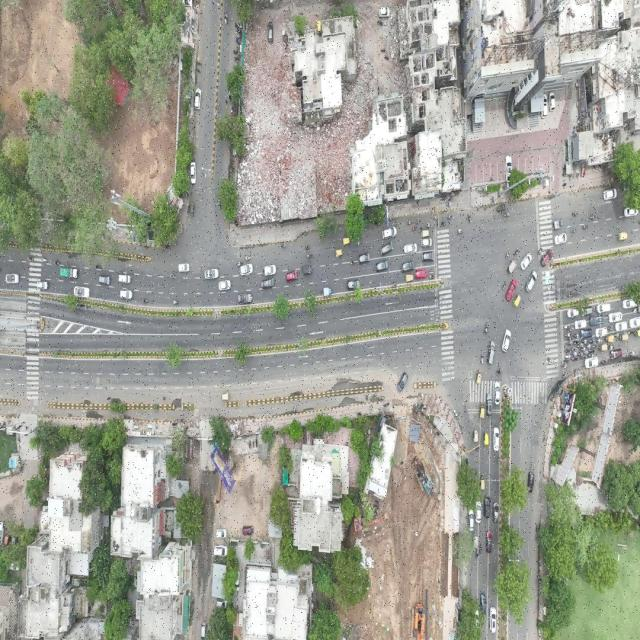3W: (301, 263, 314, 278), (219, 391, 231, 403), (322, 285, 334, 297), (512, 294, 521, 309), (508, 260, 517, 275), (190, 200, 197, 219), (335, 248, 345, 260), (617, 232, 629, 242), (472, 428, 479, 444), (343, 235, 352, 247), (483, 430, 489, 448), (479, 404, 485, 420), (475, 370, 481, 385), (496, 203, 506, 212), (480, 475, 485, 492), (420, 229, 430, 237), (406, 274, 415, 282)
Cars: (396, 371, 409, 396), (525, 271, 538, 294), (193, 86, 203, 115), (380, 225, 399, 240), (602, 188, 620, 203), (73, 285, 92, 299), (489, 604, 497, 636), (502, 329, 512, 354), (541, 249, 554, 268), (188, 161, 198, 185), (379, 241, 395, 256), (520, 252, 532, 271), (479, 592, 488, 617), (5, 272, 21, 286), (118, 288, 134, 302), (376, 260, 390, 276), (487, 341, 496, 365), (285, 270, 299, 285), (204, 267, 220, 280), (475, 500, 483, 525), (263, 263, 277, 277), (553, 233, 567, 247), (98, 275, 113, 288), (347, 279, 362, 292), (218, 281, 232, 294), (401, 259, 414, 273), (238, 292, 253, 304), (240, 264, 255, 276), (403, 243, 418, 255), (486, 530, 493, 555), (493, 427, 500, 452), (358, 252, 371, 265), (422, 251, 436, 263), (624, 207, 639, 218), (467, 509, 474, 532), (492, 500, 499, 523), (486, 394, 493, 417), (36, 280, 49, 292), (494, 381, 500, 407), (262, 279, 276, 290), (178, 263, 192, 273), (420, 238, 433, 248), (415, 270, 427, 280)
LCV: (117, 272, 133, 286), (60, 267, 78, 279), (484, 496, 491, 519), (551, 219, 564, 231)
M2W: (40, 255, 49, 266), (216, 196, 222, 212), (26, 254, 35, 263), (141, 296, 150, 305), (456, 225, 464, 235), (500, 280, 507, 291), (172, 298, 180, 307), (303, 243, 312, 251), (483, 325, 489, 337), (224, 10, 228, 27), (467, 214, 473, 225), (280, 242, 287, 251), (496, 368, 502, 378), (95, 262, 102, 270), (169, 273, 177, 280), (590, 213, 597, 221), (514, 248, 520, 257), (54, 260, 61, 267), (306, 253, 313, 260), (428, 273, 435, 280), (425, 222, 432, 229), (572, 211, 579, 218), (582, 224, 589, 231), (244, 255, 252, 261), (350, 259, 356, 267), (391, 281, 397, 289), (407, 218, 413, 226), (447, 213, 453, 221), (479, 543, 483, 555), (480, 354, 484, 366), (441, 220, 447, 227), (505, 251, 510, 259), (416, 218, 422, 224), (475, 550, 479, 559), (571, 228, 577, 234), (412, 226, 417, 232), (504, 213, 510, 218)
